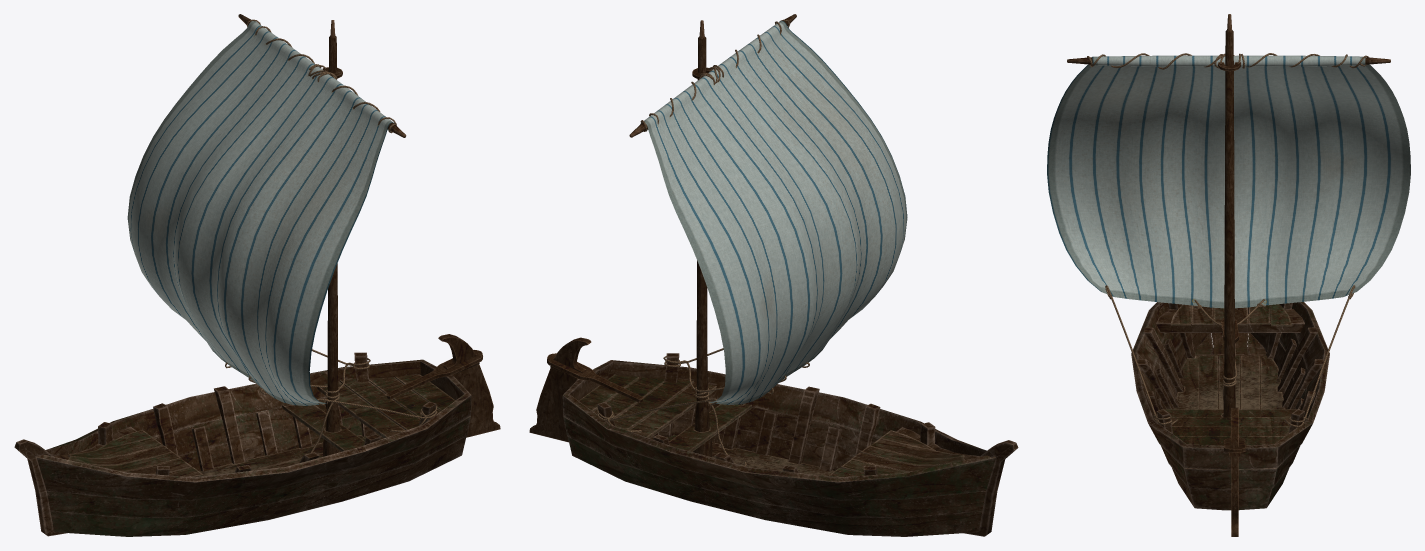
The model's file is fishing_boat.glb.
3 renders of one model, left to right at view 1: azimuth 30°, elevation 25°; view 2: azimuth 150°, elevation 25°; view 3: azimuth 270°, elevation 25°, orthographic.
Visible parts, largest first — view 1: Sail_38, Main Shape.004_1, Main Shape.003_0, Main Shape.005_2, Boat Fin_32, Mast.001_25, Plank to sit_26, Back Planks.002_28, Middle Support _31, Back Planks.003_29, Volume Support.009_4, Base Planks.008_12 (+10 smaller); view 2: Sail_38, Main Shape.004_1, Main Shape.003_0, Main Shape.005_2, Boat Fin_32, Mast.001_25, Plank to sit_26, Back Planks.002_28, Middle Support _31, Back Planks.003_29, Volume Support.009_4, Base Planks.009_13 (+10 smaller); view 3: Sail_38, Main Shape.004_1, Mast.001_25, Main Shape.003_0, Main Shape.005_2, Front Support.001_14, Volume Support.012_7, Back Planks.003_29, Back Planks.002_28, Base Planks.006_10, Base Planks.008_12, Base Planks.007_11 (+12 smaller).
Boxes of the visible parts, bbox=[...] form: Sail_38: bbox=[127, 21, 394, 405]; Main Shape.004_1: bbox=[36, 359, 471, 500]; Main Shape.003_0: bbox=[47, 397, 470, 518]; Main Shape.005_2: bbox=[50, 416, 466, 536]; Boat Fin_32: bbox=[438, 334, 500, 437]; Mast.001_25: bbox=[322, 20, 340, 456]; Plank to sit_26: bbox=[281, 403, 364, 451]; Back Planks.002_28: bbox=[317, 381, 405, 438]; Middle Support _31: bbox=[14, 439, 67, 536]; Back Planks.003_29: bbox=[340, 379, 420, 430]; Volume Support.009_4: bbox=[214, 386, 319, 464]; Base Planks.008_12: bbox=[200, 435, 367, 476]; Sail_38: bbox=[640, 20, 907, 404]; Main Shape.004_1: bbox=[562, 360, 995, 500]; Main Shape.003_0: bbox=[563, 398, 985, 518]; Main Shape.005_2: bbox=[568, 416, 981, 536]; Boat Fin_32: bbox=[529, 337, 591, 442]; Mast.001_25: bbox=[693, 20, 712, 457]; Plank to sit_26: bbox=[669, 403, 751, 451]; Back Planks.002_28: bbox=[629, 382, 716, 438]; Middle Support _31: bbox=[964, 440, 1018, 536]; Back Planks.003_29: bbox=[614, 379, 693, 430]; Volume Support.009_4: bbox=[714, 386, 819, 464]; Base Planks.009_13: bbox=[666, 434, 834, 476]; Sail_38: bbox=[1047, 55, 1410, 308]; Main Shape.004_1: bbox=[1131, 302, 1329, 469]; Mast.001_25: bbox=[1223, 14, 1235, 417]; Main Shape.003_0: bbox=[1154, 306, 1306, 489]; Main Shape.005_2: bbox=[1166, 307, 1295, 510]; Front Support.001_14: bbox=[1156, 305, 1304, 332]; Volume Support.012_7: bbox=[1143, 327, 1317, 397]; Back Planks.003_29: bbox=[1172, 426, 1289, 436]; Back Planks.002_28: bbox=[1170, 416, 1304, 426]; Base Planks.006_10: bbox=[1199, 355, 1218, 409]; Base Planks.008_12: bbox=[1260, 355, 1285, 409]; Base Planks.007_11: bbox=[1241, 355, 1259, 409].
Size of the model in its own units: 7.47 by 6.72 by 4.96.
Materials: 6 (6 with a texture image).
